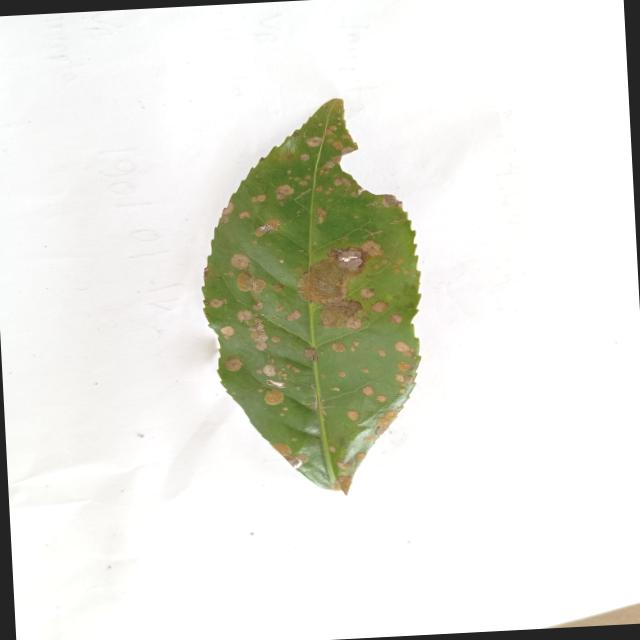leaf_spot: (203, 100, 419, 494)
